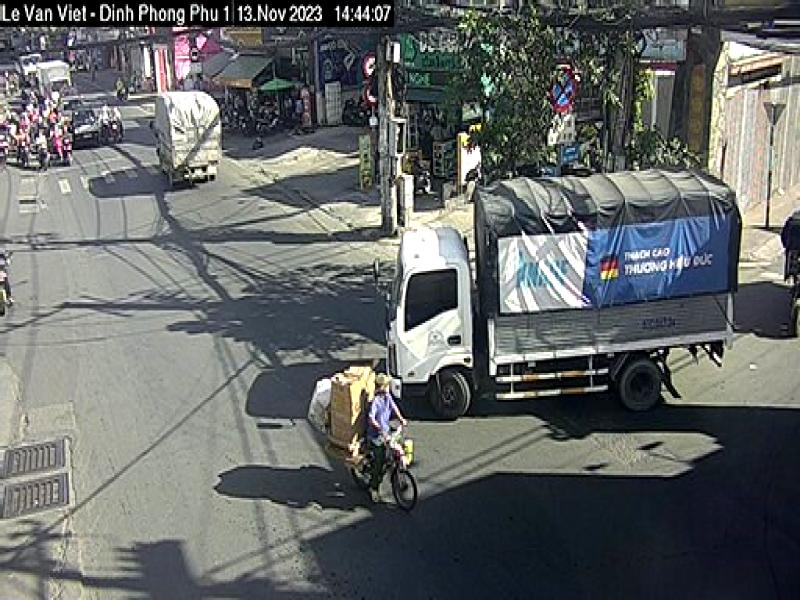truck: (383, 167, 741, 420)
